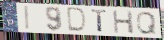9: (44, 6, 64, 33)
D: (67, 6, 89, 34)
H: (112, 10, 136, 35)
I: (24, 5, 31, 31)
Q: (136, 11, 158, 35)
T: (91, 8, 109, 33)
